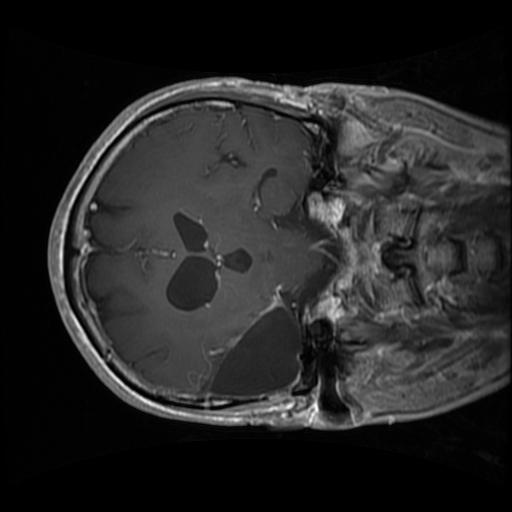glioma: (182, 286, 303, 401)
